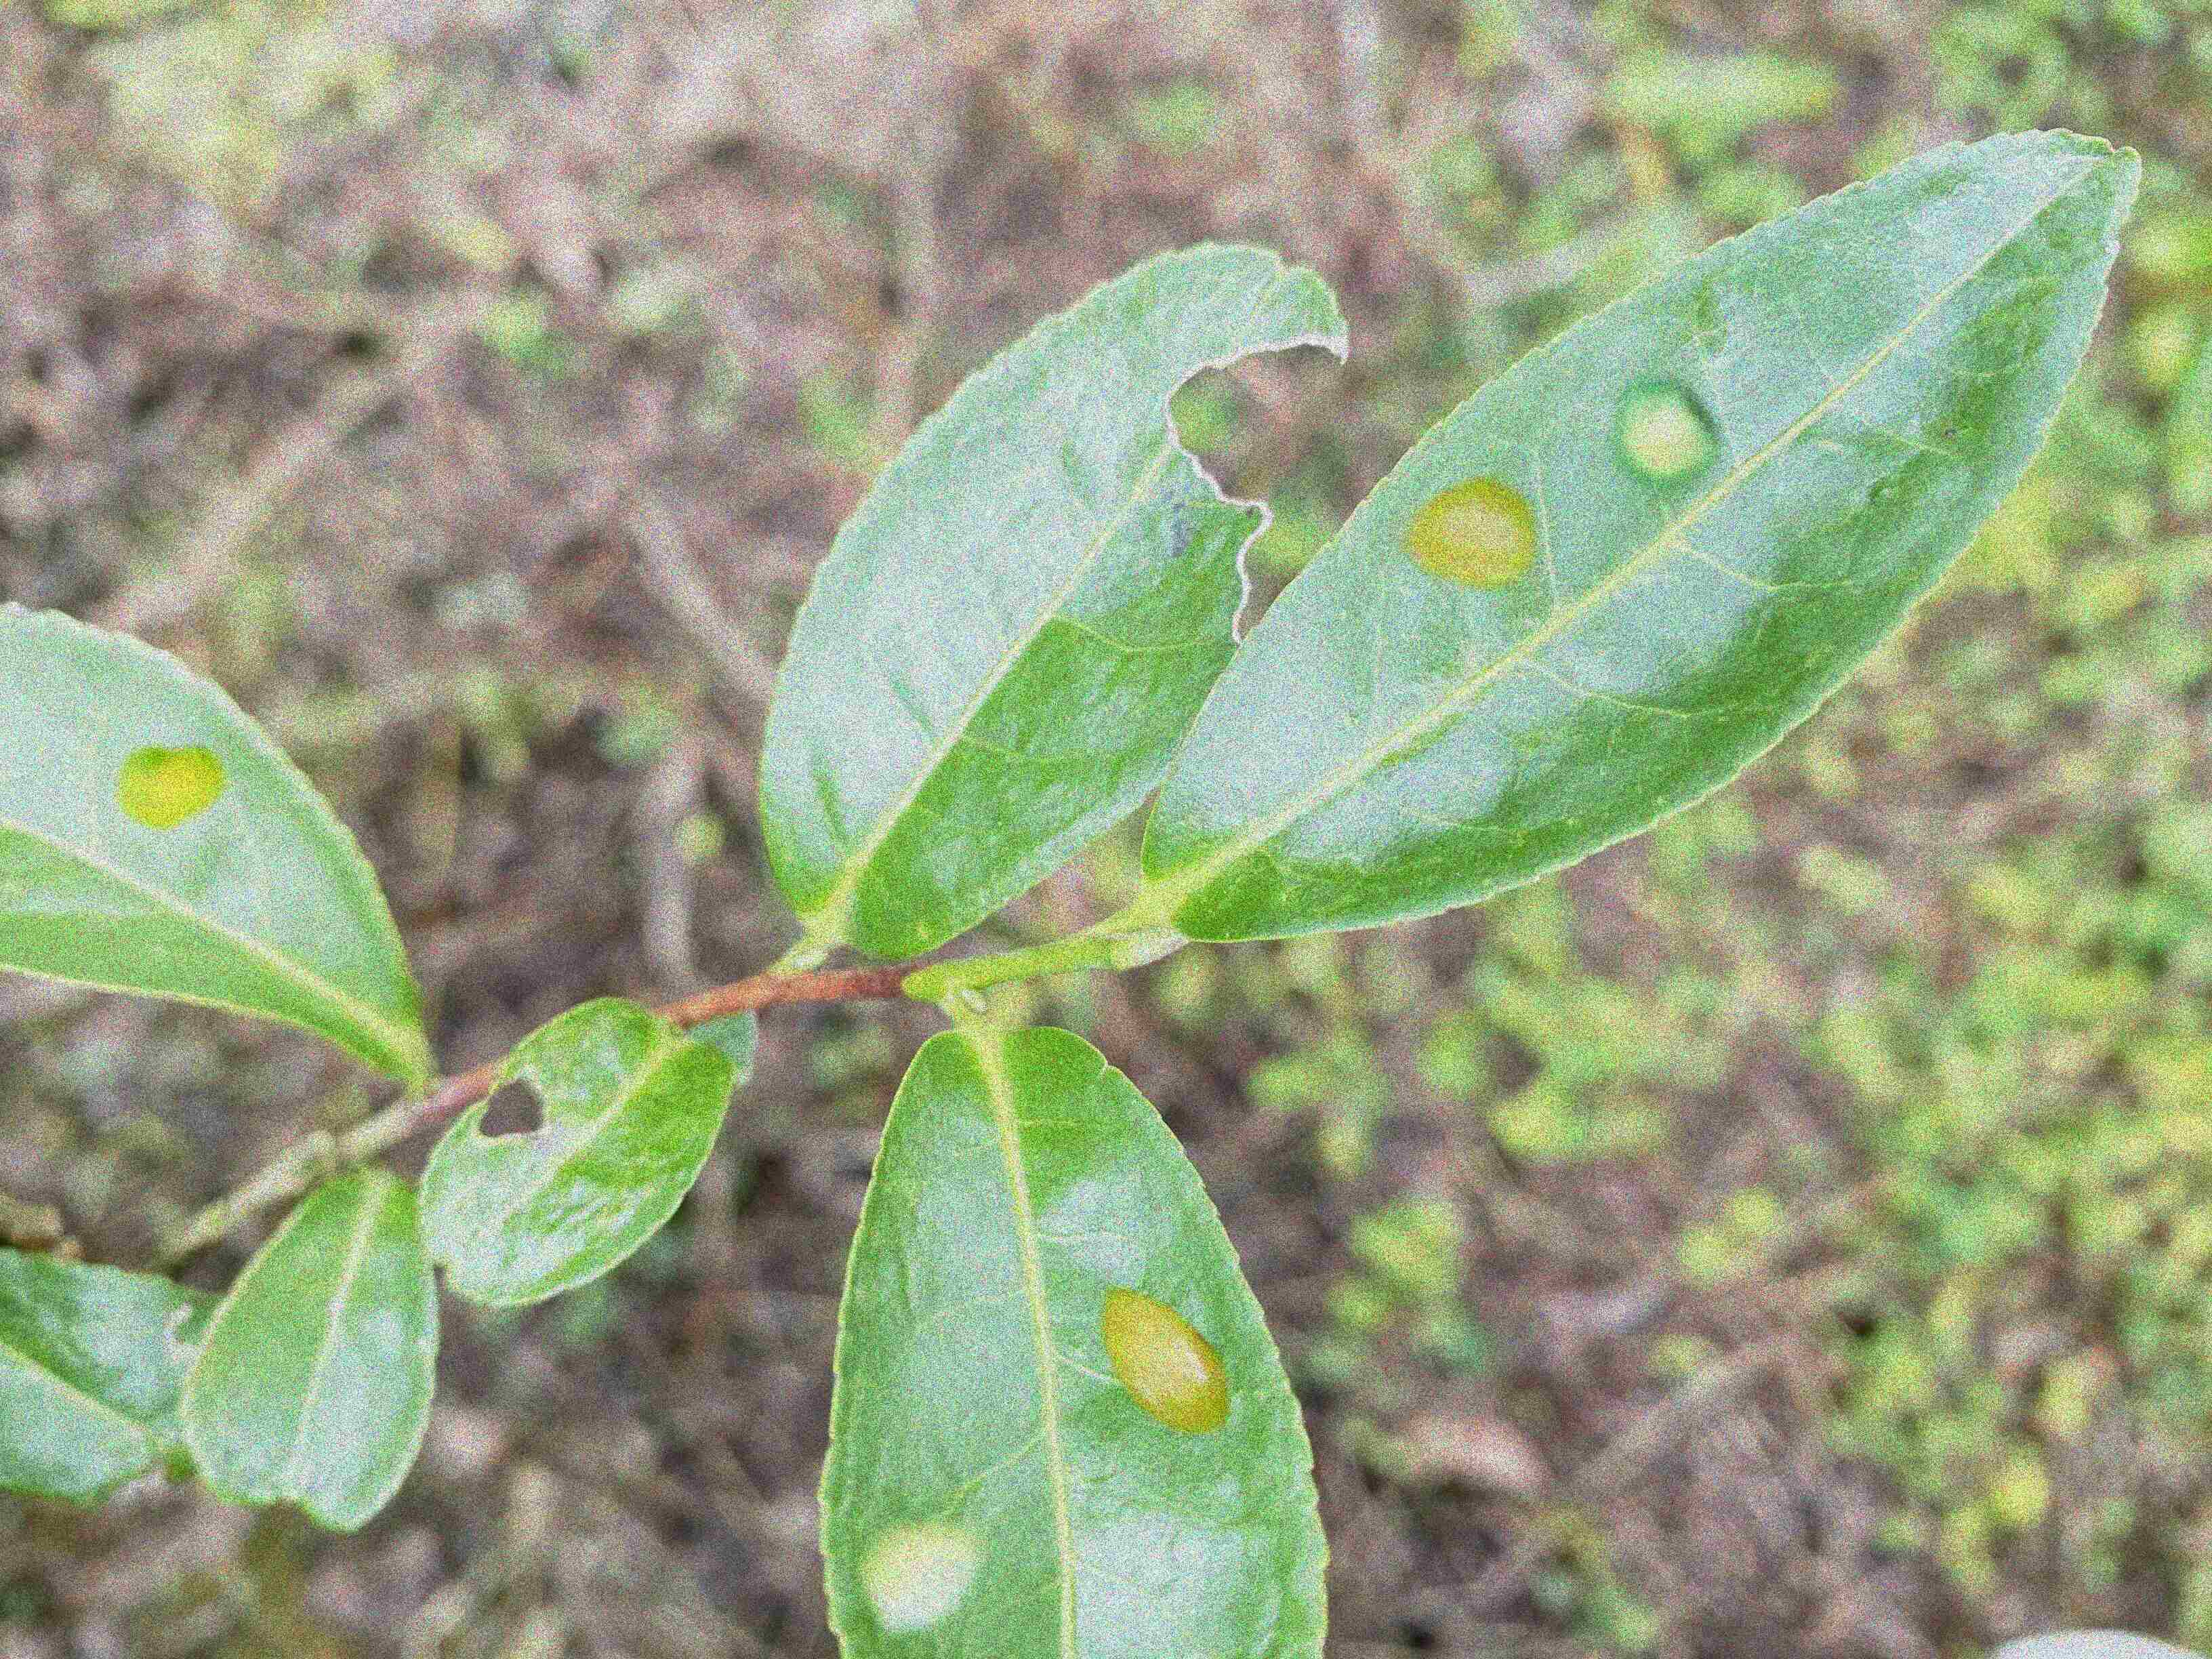chabing_high: (1139, 125, 2146, 943), (817, 1021, 1332, 1657)
chabing_low: (0, 594, 434, 1086)
chihuo_low: (756, 240, 1350, 962), (418, 995, 733, 1309), (181, 1164, 439, 1535)
